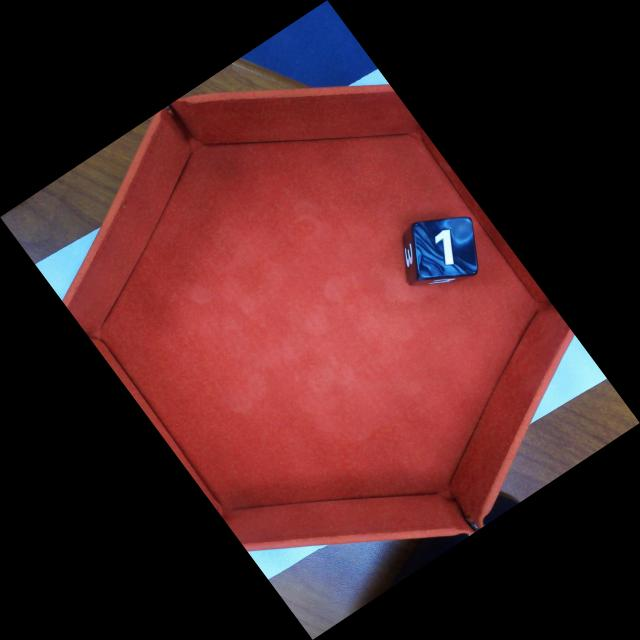dice: (410, 216, 481, 281)
